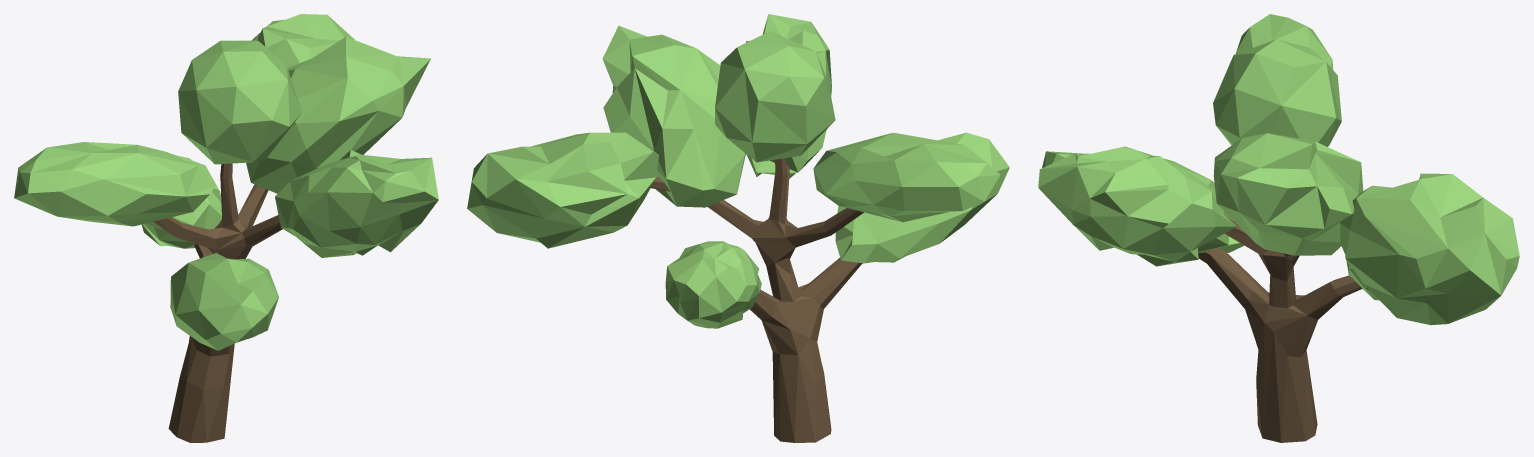
Rendered from Tree1.1.fbx.
3 renders of one model, left to right at view 1: azimuth 30°, elevation 25°; view 2: azimuth 150°, elevation 25°; view 3: azimuth 270°, elevation 25°, orthographic. The views are drawn at different scales.
Visible parts, largest first — view 1: Icosphere.001, Icosphere, Sphere, Icosphere.002, Tree, Icosphere.004, Icosphere.003, Sphere.001; view 2: Icosphere.003, Icosphere.001, Tree, Icosphere, Icosphere.002, Sphere.001, Icosphere.004, Sphere; view 3: Icosphere.003, Sphere, Icosphere.001, Tree, Icosphere.002, Icosphere, Icosphere.004.
Boxes of the visible parts, x1,y1,x2,y2 form: Icosphere.001: (246,37,430,193); Icosphere: (14,142,214,226); Sphere: (275,150,438,257); Icosphere.002: (178,40,301,164); Tree: (153,163,282,442); Icosphere.004: (170,253,278,350); Icosphere.003: (251,14,354,68); Sphere.001: (141,153,221,248); Icosphere.003: (467,132,658,248); Icosphere.001: (602,25,745,207); Tree: (650,158,863,442); Icosphere: (813,132,1000,222); Icosphere.002: (715,31,835,162); Sphere.001: (665,241,761,328); Icosphere.004: (835,132,1009,263); Sphere: (746,14,831,178); Icosphere.003: (1340,173,1519,325); Sphere: (1038,146,1236,266); Icosphere.001: (1213,133,1363,255); Tree: (1198,218,1362,442); Icosphere.002: (1213,39,1341,146); Icosphere: (1235,14,1333,69); Icosphere.004: (1042,151,1243,252).
Size of the model in its own units: 1687 by 1439 by 1560.
1 material, 1 textured.
